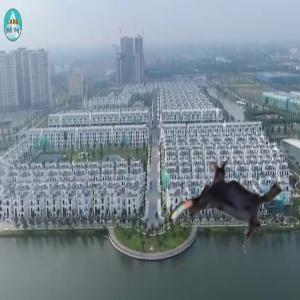drone: (173, 147, 287, 261)
